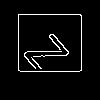Z: (22, 24, 78, 78)
